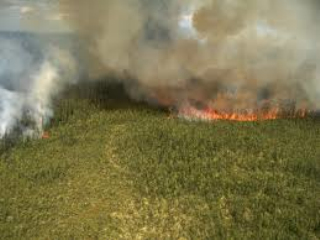fire: (186, 102, 280, 125)
smoke: (72, 5, 314, 100), (4, 59, 56, 134)
